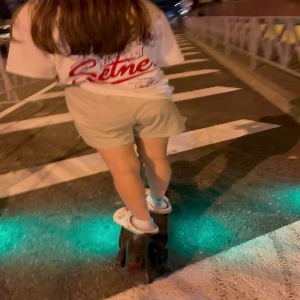human on a scooter: (6, 1, 189, 285)
